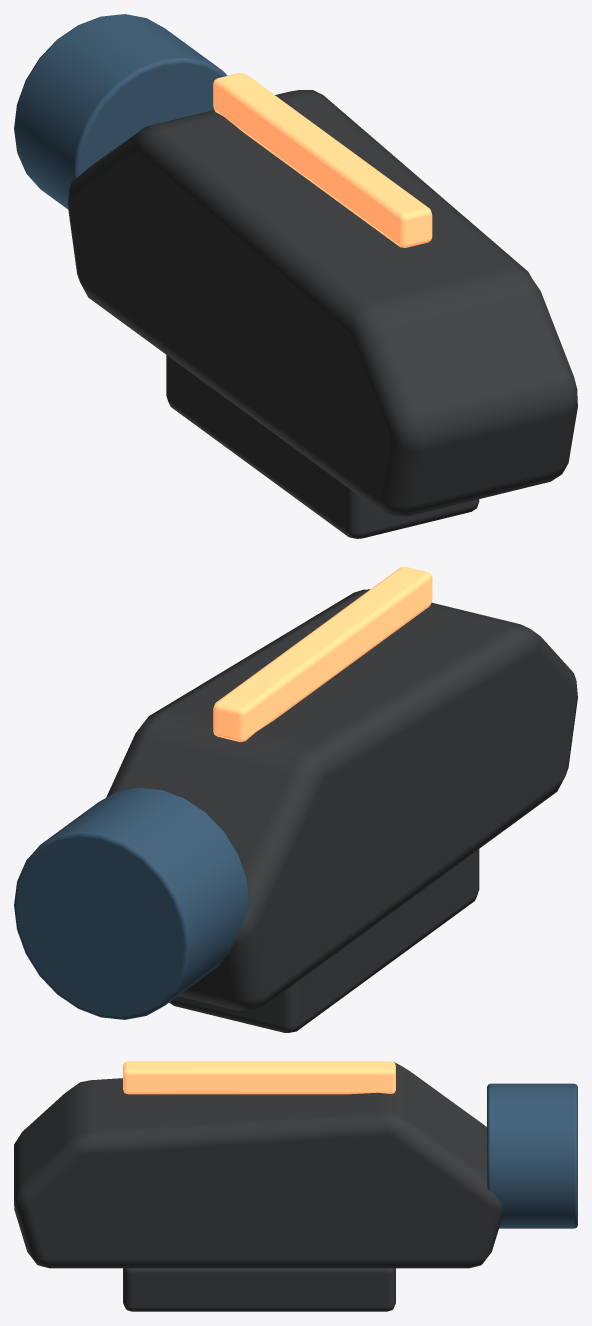
The model's file is marksman_scope.glb.
The picture shows the model from 3 angles, top to bottom: view 1: azimuth 30°, elevation 25°; view 2: azimuth 150°, elevation 25°; view 3: azimuth 270°, elevation 25°; orthographic projection. The views are drawn at different scales.
Parts seen in each view (by area): view 1: Body, Objective, FiberOptic, Mount; view 2: Body, Objective, FiberOptic, Mount; view 3: Body, Objective, Mount, FiberOptic.
Part boxes in pixels (x1=…): Body: x1=67, y1=90, x2=577, y2=516; Objective: x1=14, y1=14, x2=227, y2=209; FiberOptic: x1=213, y1=73, x2=432, y2=247; Mount: x1=166, y1=355, x2=479, y2=538; Body: x1=106, y1=589, x2=577, y2=1010; Objective: x1=14, y1=787, x2=249, y2=1019; FiberOptic: x1=213, y1=567, x2=432, y2=741; Mount: x1=169, y1=849, x2=479, y2=1032; Body: x1=14, y1=1062, x2=502, y2=1268; Objective: x1=487, y1=1083, x2=577, y2=1228; Mount: x1=123, y1=1268, x2=395, y2=1311; FiberOptic: x1=123, y1=1061, x2=395, y2=1094.
Size of the model in its own units: 0.034 by 0.055 by 0.124.
